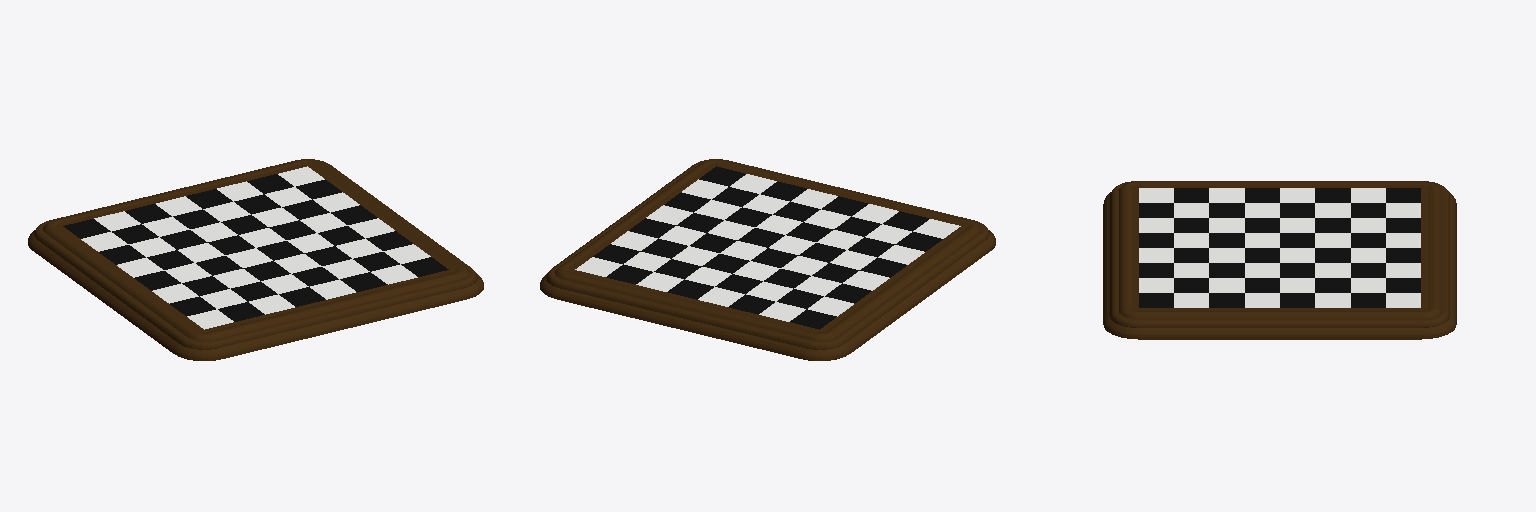
Rendered from Chess_Board_BlackWhiteWood.obj.
The picture shows the model from 3 angles: view 1: azimuth 30°, elevation 25°; view 2: azimuth 150°, elevation 25°; view 3: azimuth 270°, elevation 25°; orthographic projection.
Visible parts, largest first — view 1: Body11, Body13, Body12; view 2: Body11, Body12, Body13; view 3: Body11, Body12, Body13.
Part boxes in pixels (left/top/right/bottom): Body11: left=28, top=159, right=483, bottom=360; Body13: left=81, top=166, right=430, bottom=329; Body12: left=63, top=174, right=448, bottom=321; Body11: left=540, top=159, right=995, bottom=360; Body12: left=593, top=166, right=942, bottom=329; Body13: left=575, top=174, right=960, bottom=321; Body11: left=1103, top=181, right=1456, bottom=339; Body12: left=1139, top=188, right=1420, bottom=307; Body13: left=1139, top=188, right=1420, bottom=307.
Size of the model in its own units: 48 by 2.64 by 48.